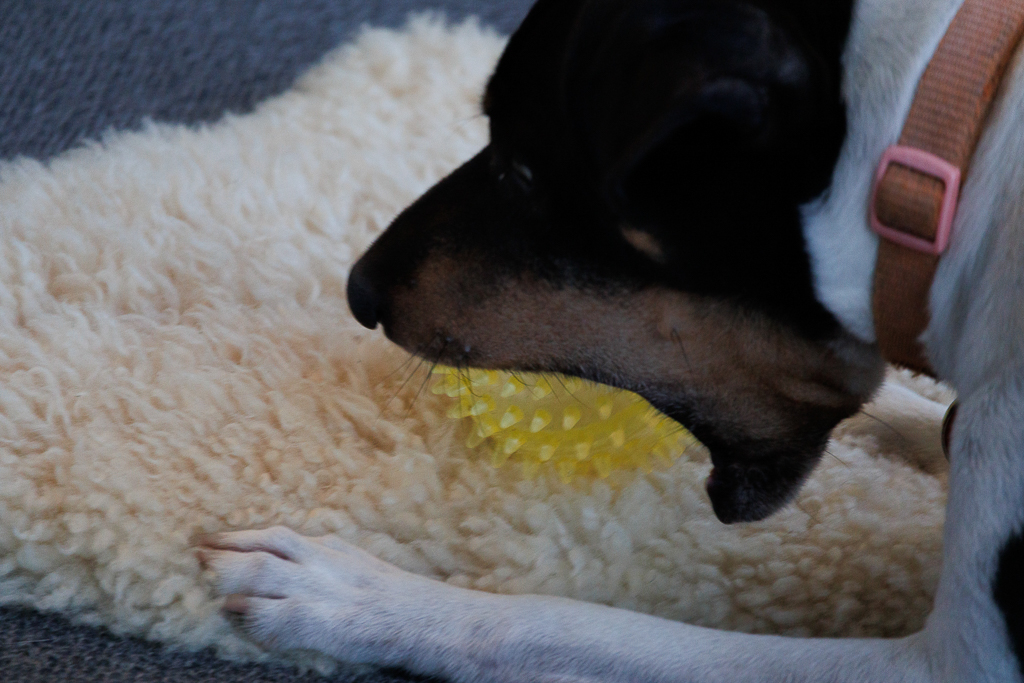Dog: (166, 0, 1023, 683)
